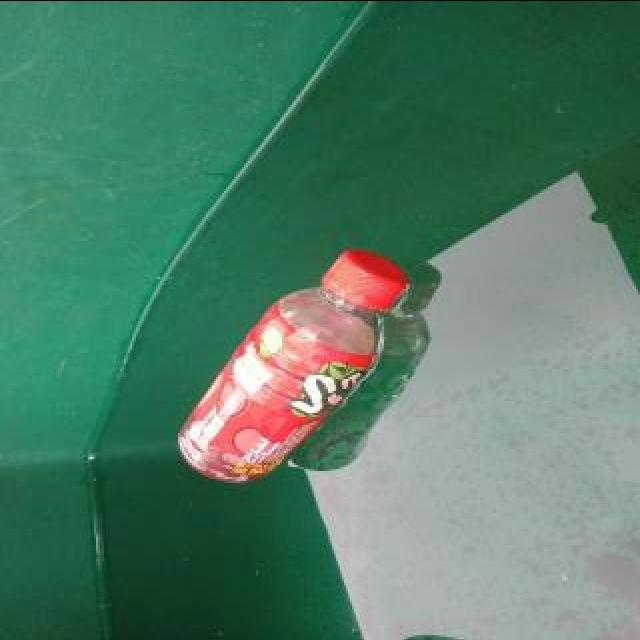Bottle: (173, 243, 410, 486)
